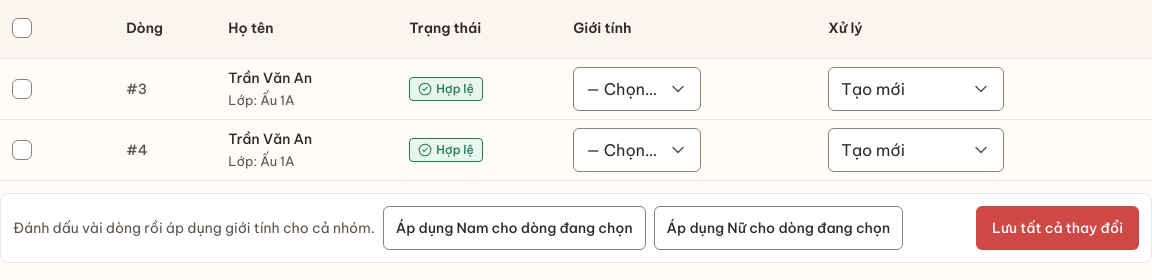
it: 🔴 TO-BE 4 bước 3 · áp dụng giới tính cho các dòng ĐANG CHỌN › đếm và nói ra số dòng đang chọn
The image size is (1152, 280).
Expected: the text "Đánh dấu vài dòng rồi áp dụng giới tính cho cả nhóm." is shown, [13,218,375,238]
Click the checkbox named "Chọn tất cả dòng của trang này" at (22, 28), box [12,18,32,38]
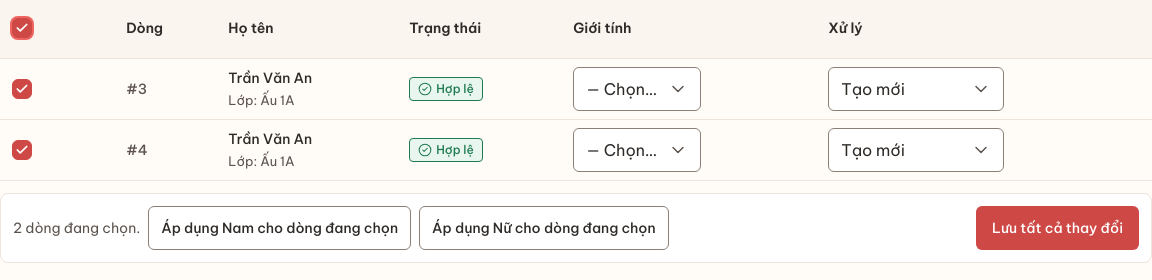
Result: the text "2 dòng đang chọn." is shown at [13,218,140,238]
